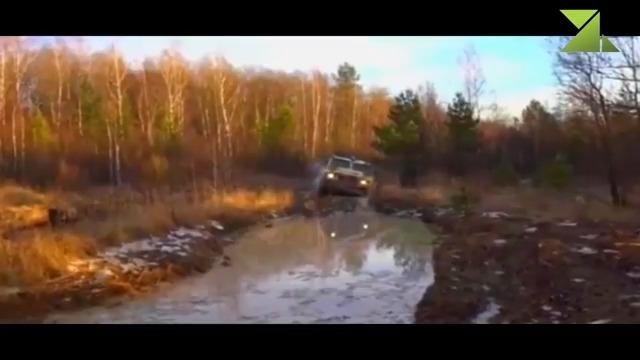MIL_HMMWV: (317, 152, 374, 201)
